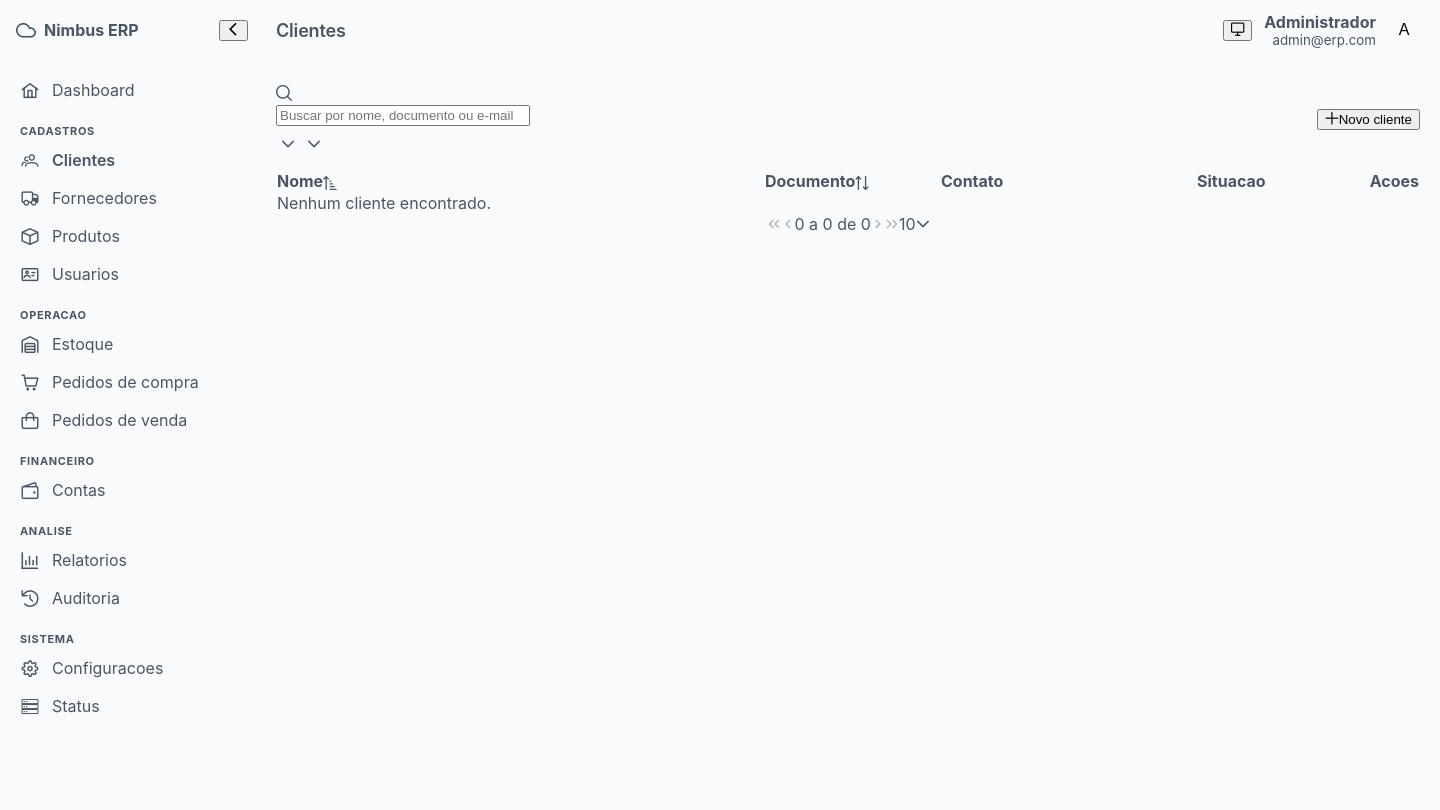
Scenario: CRUD de clientes › mostra o conflito de documento duplicado vindo da API
Expected: the heading "Clientes" is shown, [276,20,346,40]
Click the button "Novo cliente".
click(1369, 119)  # box [1317,108,1420,130]
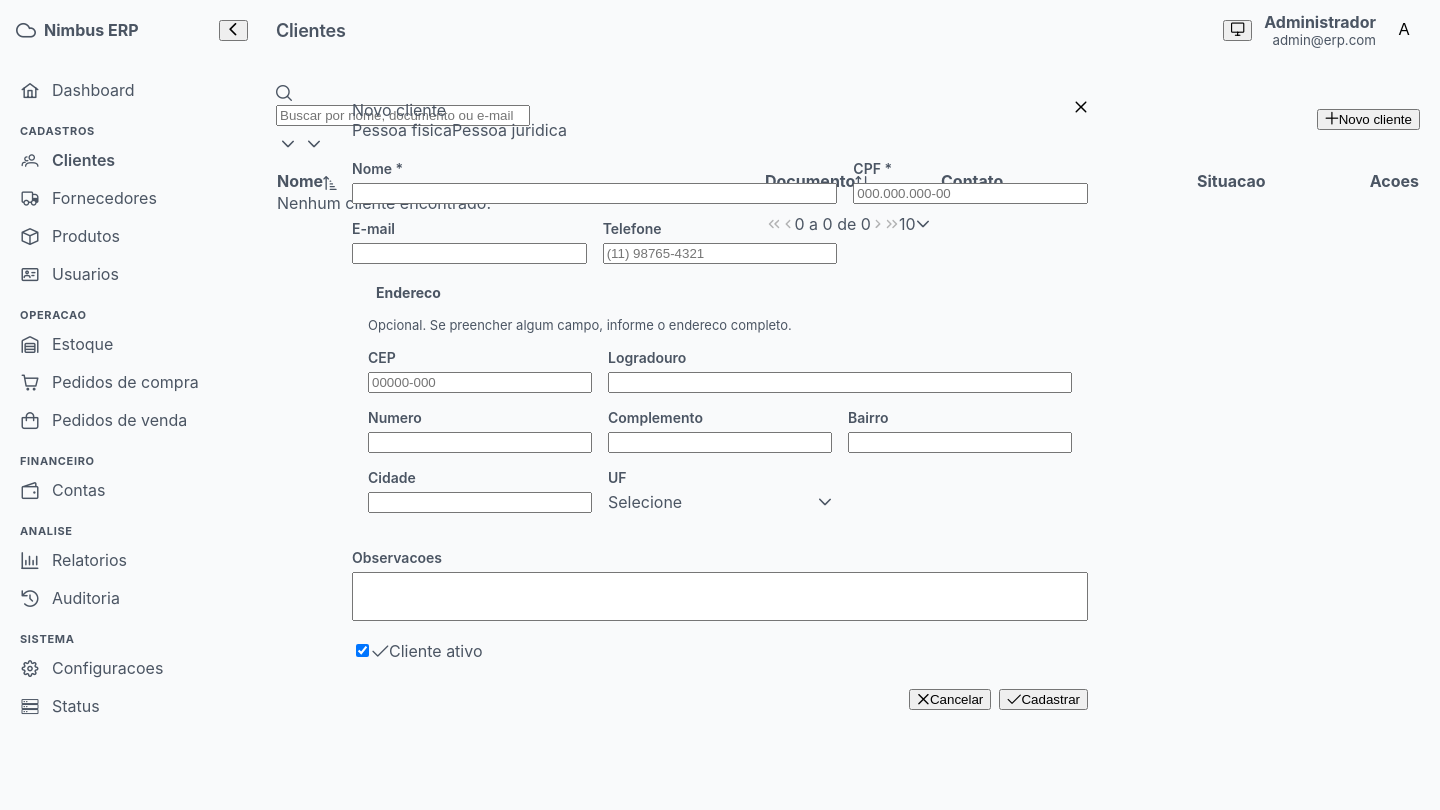
Type "Maria" into the field labelled "Nome *".
click(595, 194); type("Maria")  # box [352,183,837,204]
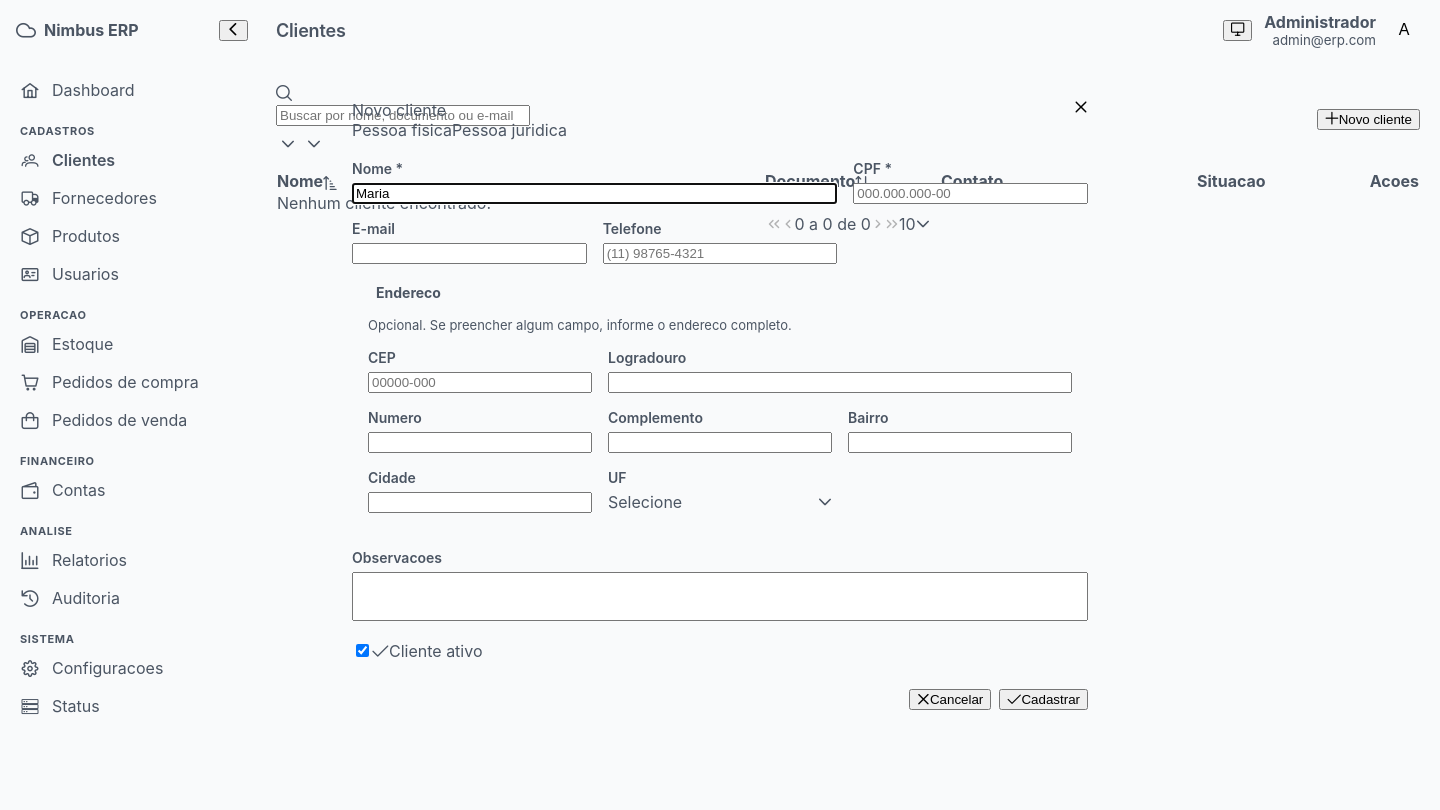
Type "52998224725" into the field labelled "CPF *".
click(971, 194); type("52998224725")  # box [853,183,1088,204]
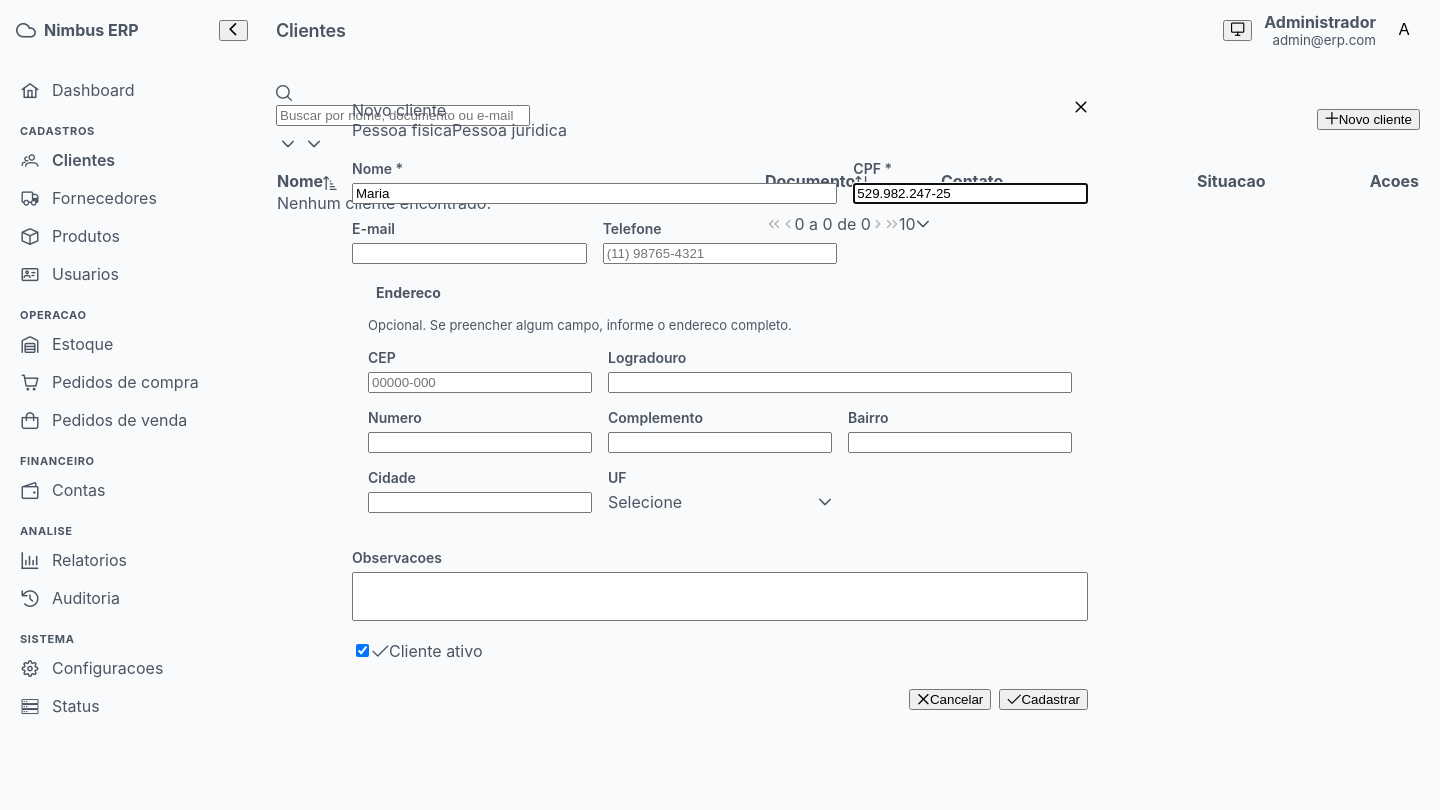
Click the button "Cadastrar".
click(1044, 700)  # box [999,689,1088,710]
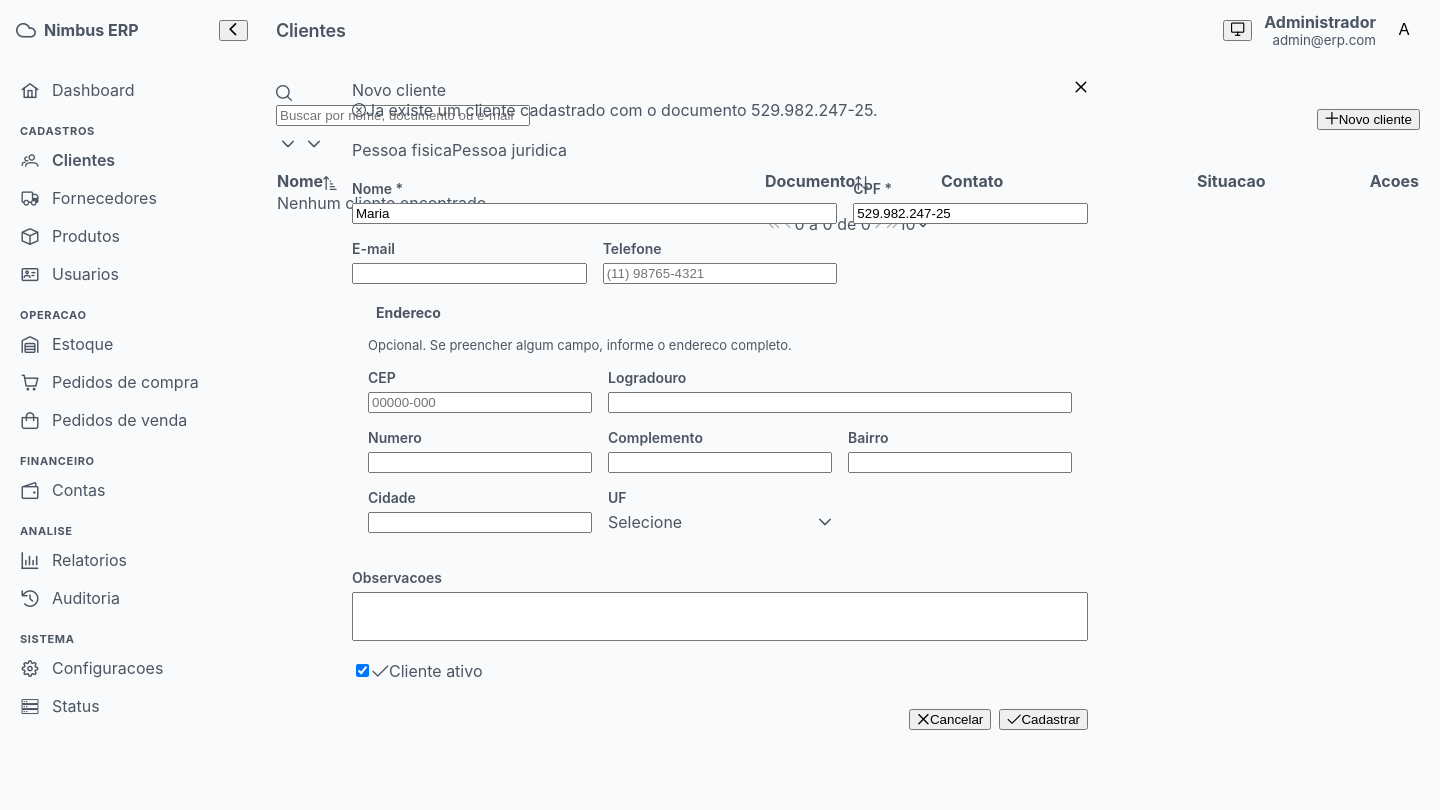
Result: the text "Ja existe um cliente" is shown at [366,100,878,120]
